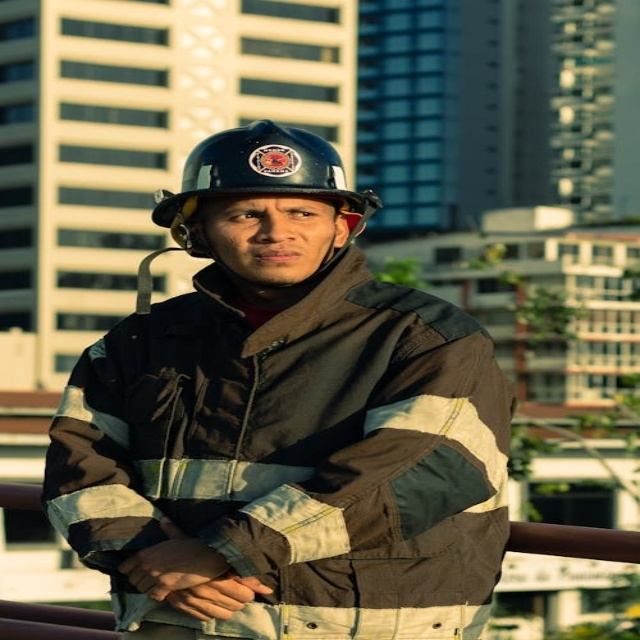Sin_gafas: (221, 205, 317, 226)
Sin_guantes: (133, 552, 272, 623)
Sin_mascara: (246, 246, 305, 281)
